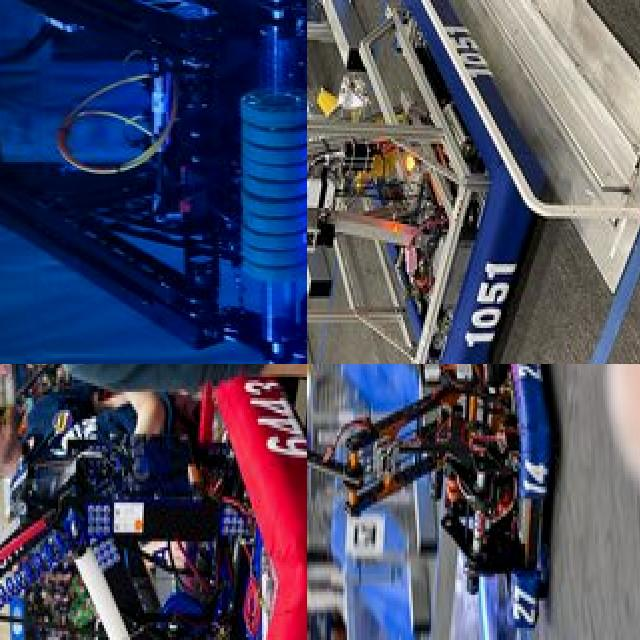FRC-Robots: (0, 0, 307, 364), (307, 0, 546, 364), (0, 364, 307, 640), (307, 364, 573, 640)
